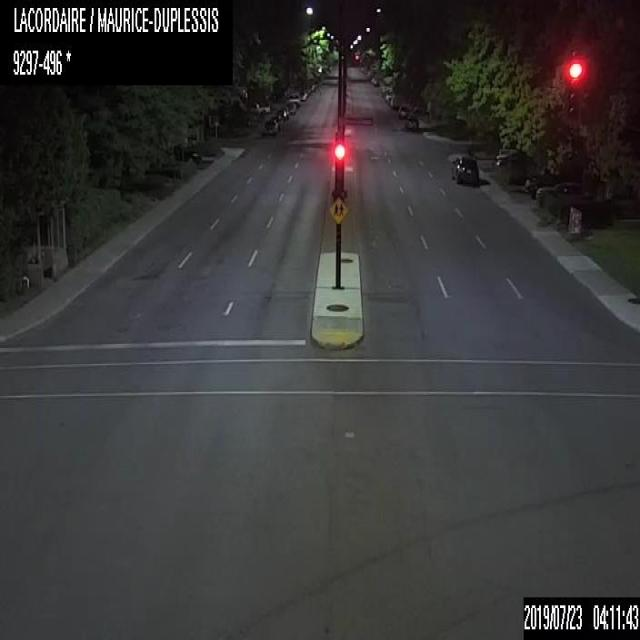pedestrian: (528, 175, 536, 201)
vehicle: (535, 180, 582, 208), (451, 154, 480, 187), (494, 153, 535, 170), (173, 144, 201, 164), (261, 117, 277, 135), (253, 101, 270, 114), (404, 116, 419, 130), (274, 107, 286, 120), (287, 91, 299, 104), (390, 93, 400, 107), (397, 105, 408, 117), (285, 101, 295, 114), (281, 105, 289, 119), (298, 90, 306, 99), (373, 76, 380, 85)
